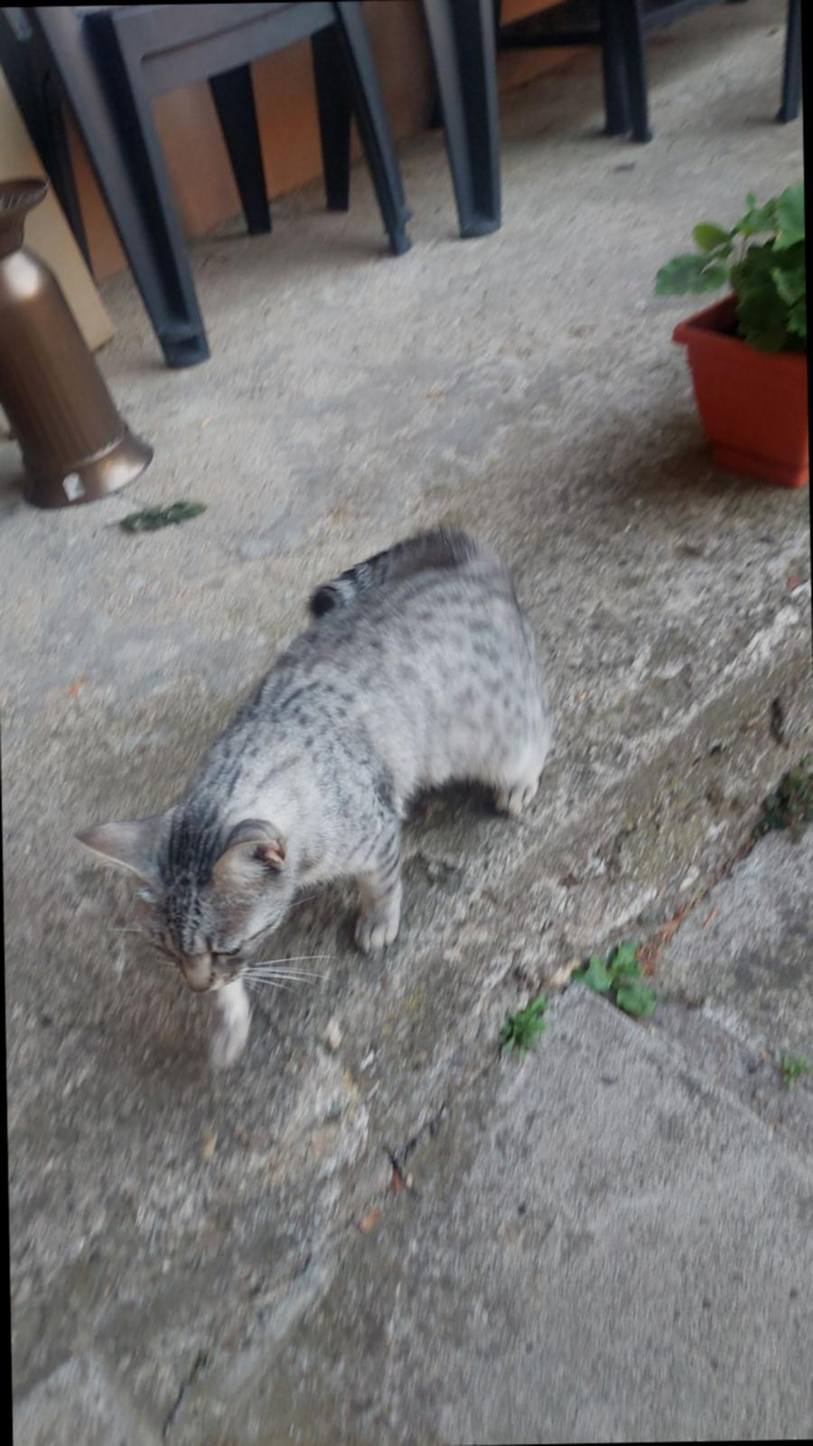macka: (67, 523, 558, 1074)
